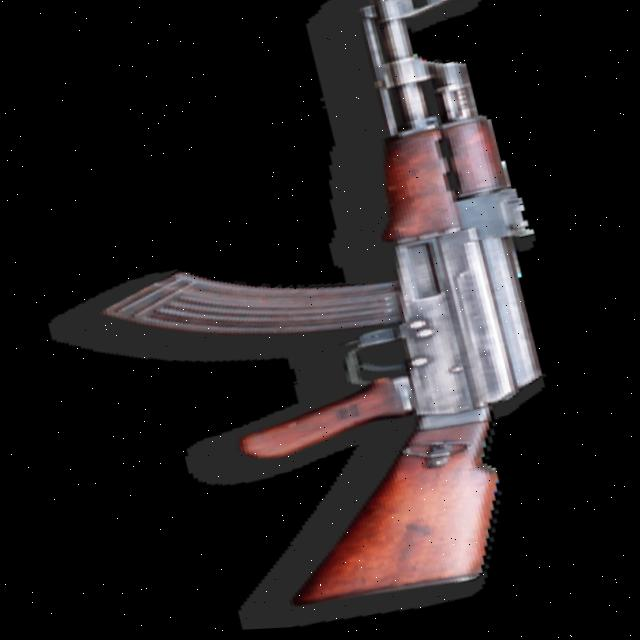firearm: (31, 0, 608, 639)
